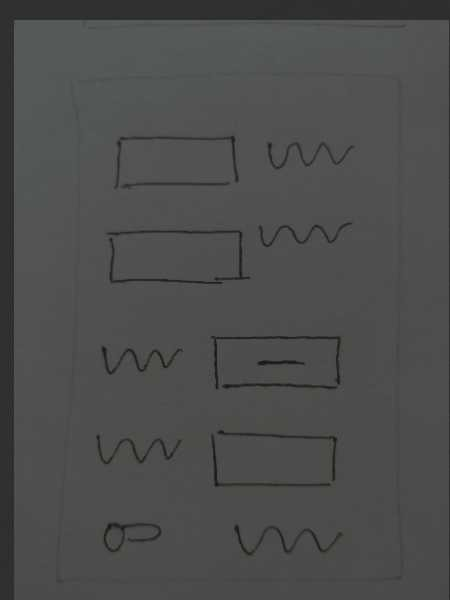button: (203, 326, 350, 396)
switch: (84, 509, 176, 559)
text: (214, 510, 353, 569), (87, 420, 192, 476), (92, 329, 188, 387), (257, 129, 359, 179), (249, 213, 359, 254)
text_input: (203, 418, 343, 505), (100, 220, 251, 292), (106, 126, 242, 198)
